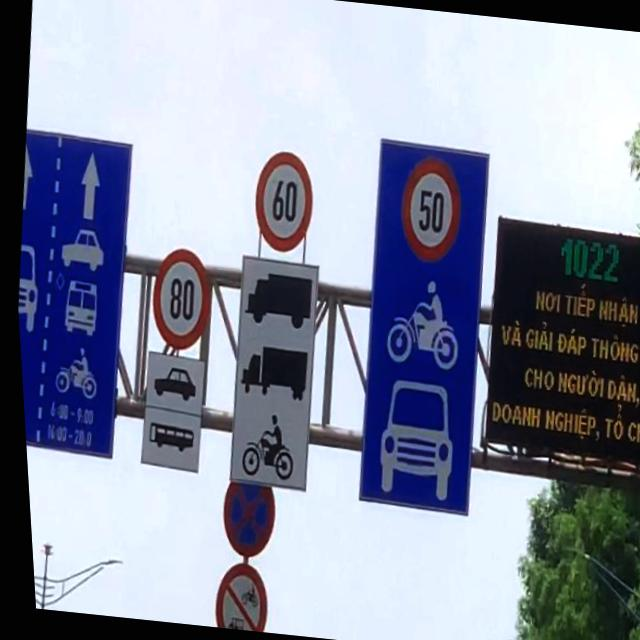Cam dung xe va do xe: (210, 466, 275, 559)
Toc do toi da cho phep: (244, 147, 318, 256), (391, 156, 464, 263), (141, 245, 214, 352)
